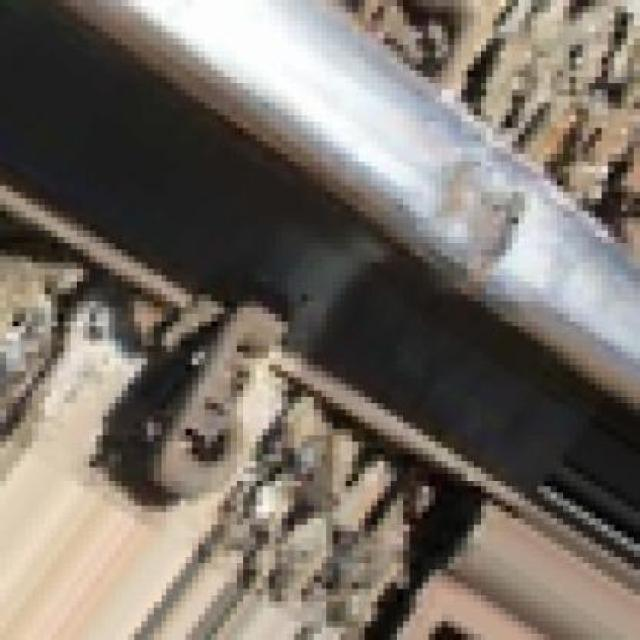defective: (393, 53, 576, 352)
non-defective: (0, 0, 638, 638)
